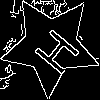H: (25, 20, 82, 78)
